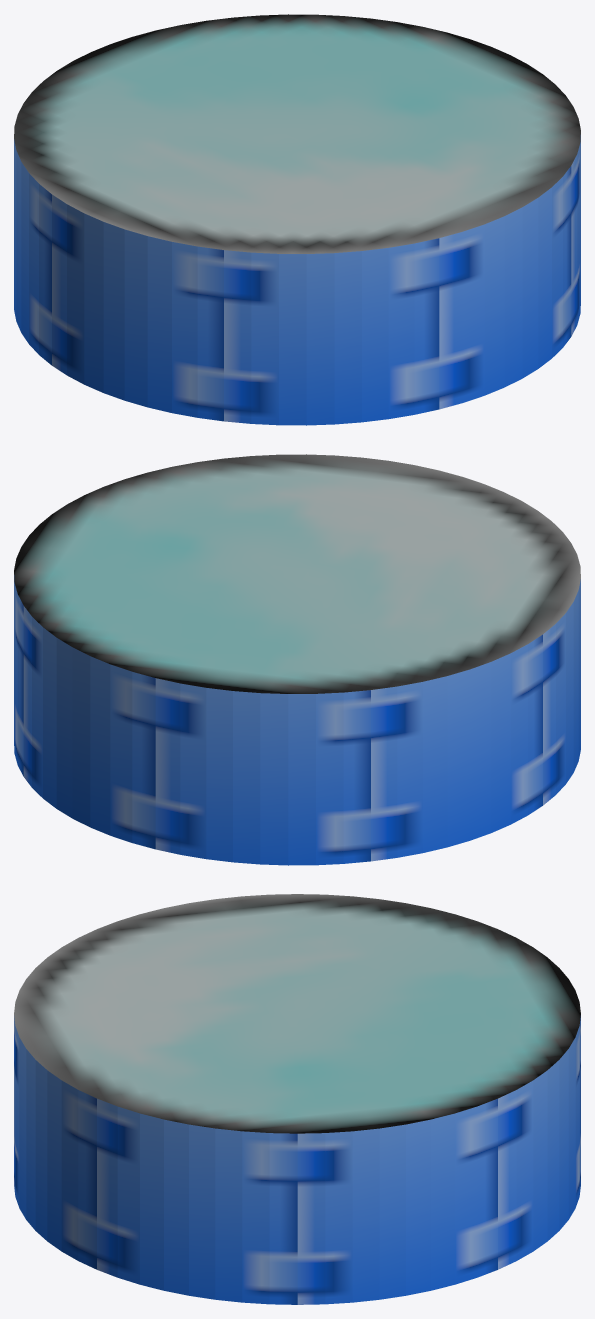
Rendered from crossa.obj.
3 renders of one model, top to bottom at view 1: azimuth 30°, elevation 25°; view 2: azimuth 150°, elevation 25°; view 3: azimuth 270°, elevation 25°, orthographic.
Visible parts, largest first — view 1: ColobotMesh_1_Cylinder.001; view 2: ColobotMesh_1_Cylinder.001; view 3: ColobotMesh_1_Cylinder.001.
Boxes of the visible parts, x1=… form: ColobotMesh_1_Cylinder.001: x1=14, y1=14, x2=580, y2=425; ColobotMesh_1_Cylinder.001: x1=14, y1=454, x2=580, y2=865; ColobotMesh_1_Cylinder.001: x1=14, y1=894, x2=580, y2=1304.
Bounding box in the file's own units: 3 × 1 × 3.
